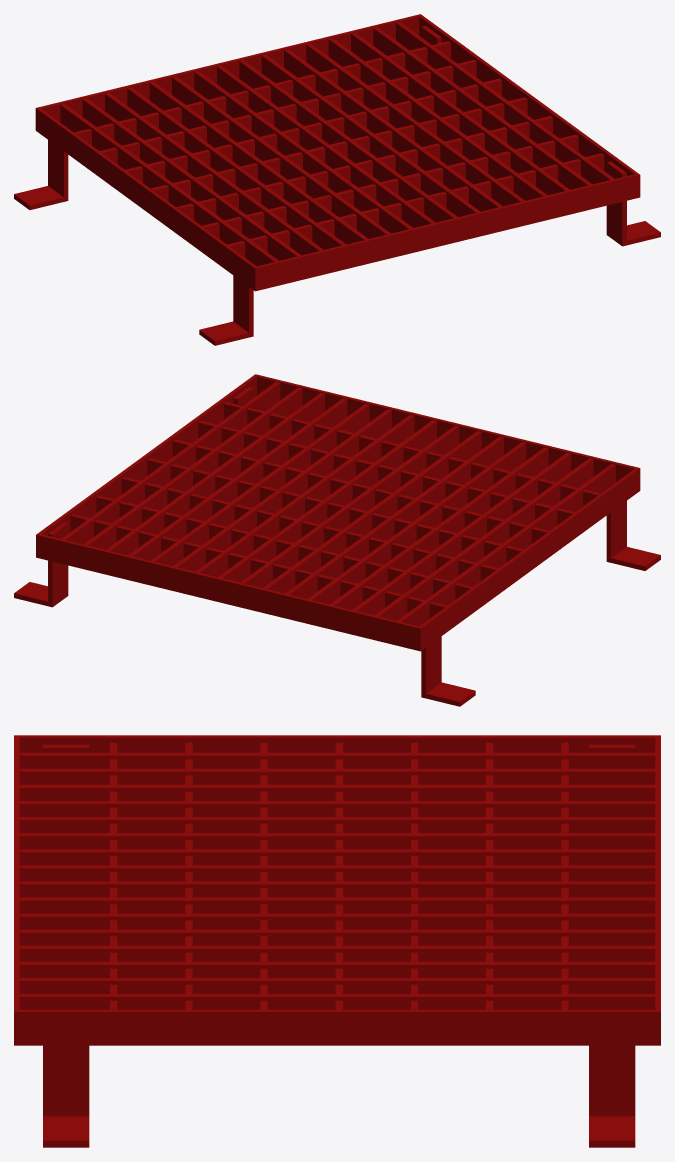
Rendered from SM_PlatformGrill_01.gltf.
The picture shows the model from 3 angles, top to bottom: view 1: azimuth 30°, elevation 25°; view 2: azimuth 150°, elevation 25°; view 3: azimuth 270°, elevation 25°; orthographic projection. The views are drawn at different scales.
Visible parts, largest first — view 1: SM_PlatformGrill_01; view 2: SM_PlatformGrill_01; view 3: SM_PlatformGrill_01.
Part boxes in pixels (x1,y1,x2,y2): SM_PlatformGrill_01: (14, 14, 660, 345); SM_PlatformGrill_01: (14, 374, 660, 706); SM_PlatformGrill_01: (14, 735, 660, 1147).
Size of the model in its own units: 1.17 by 0.1935 by 1.
